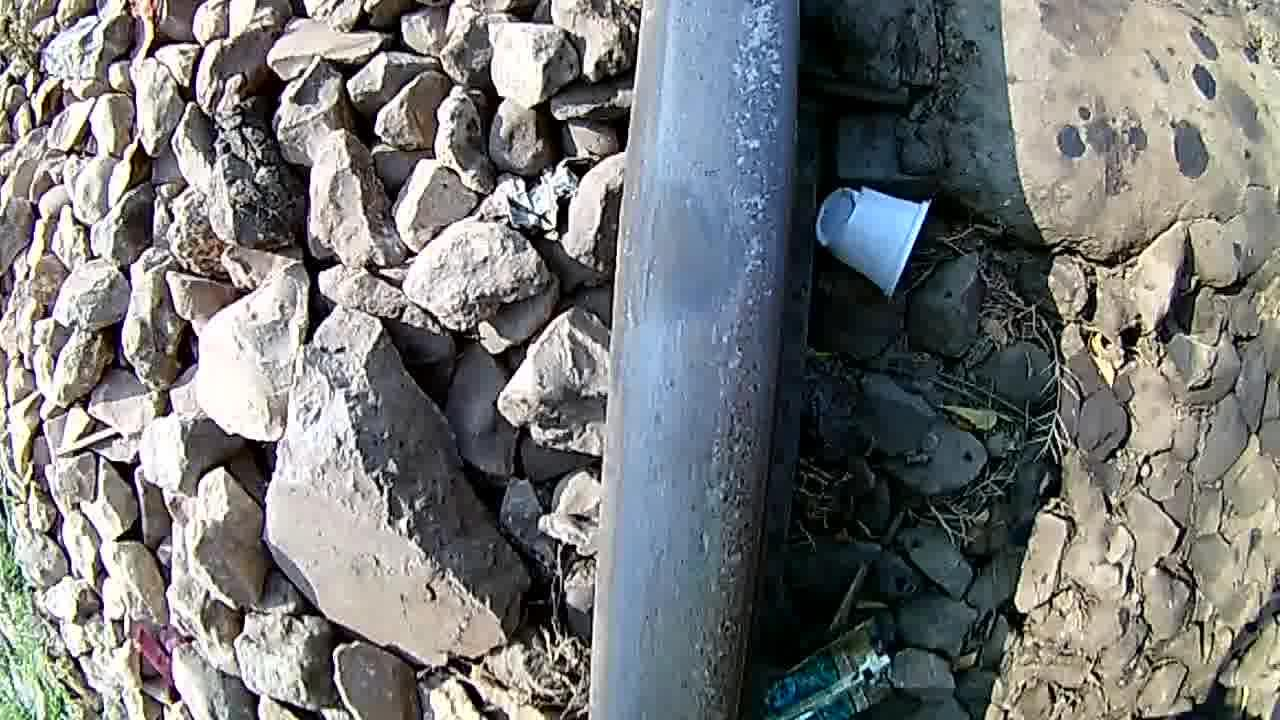bolt_missing: (613, 152, 776, 366)
